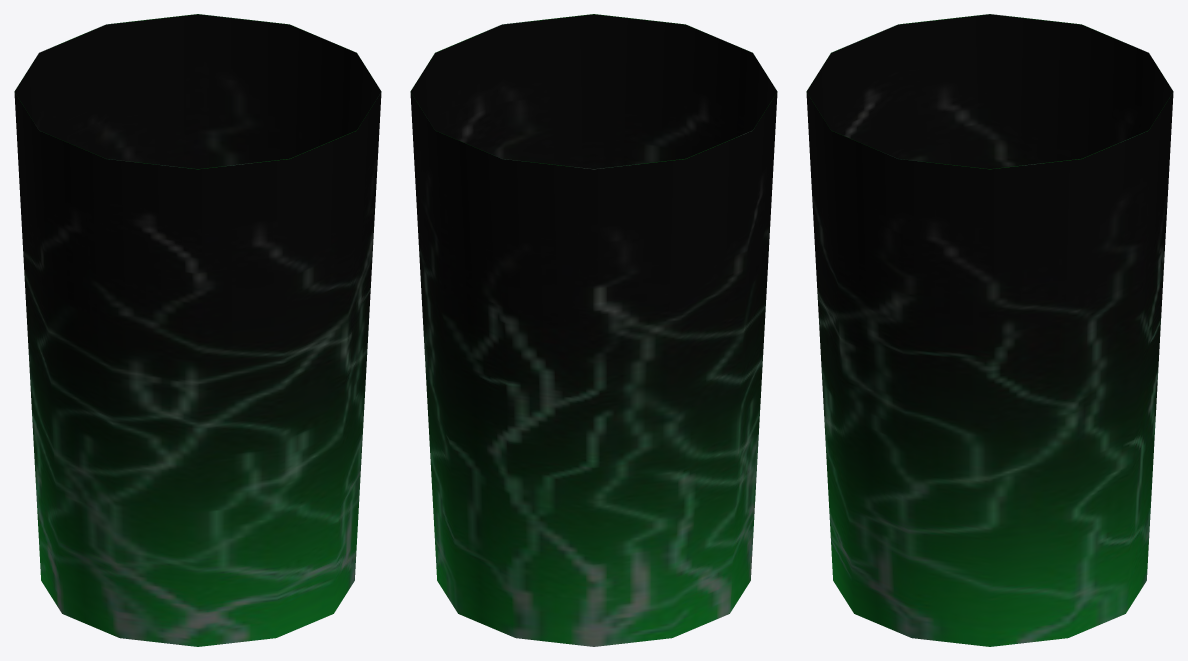
3 views of the same model, side by side, from view 1: azimuth 30°, elevation 25°; view 2: azimuth 150°, elevation 25°; view 3: azimuth 270°, elevation 25° (orthographic).
Parts seen in each view (by area): view 1: tx_03; view 2: tx_03; view 3: tx_03.
Part boxes in pixels (left/top/right/bottom): tx_03: left=14, top=14, right=381, bottom=646; tx_03: left=410, top=14, right=777, bottom=646; tx_03: left=806, top=14, right=1173, bottom=646.
Size of the model in its own units: 343 by 504 by 343.
